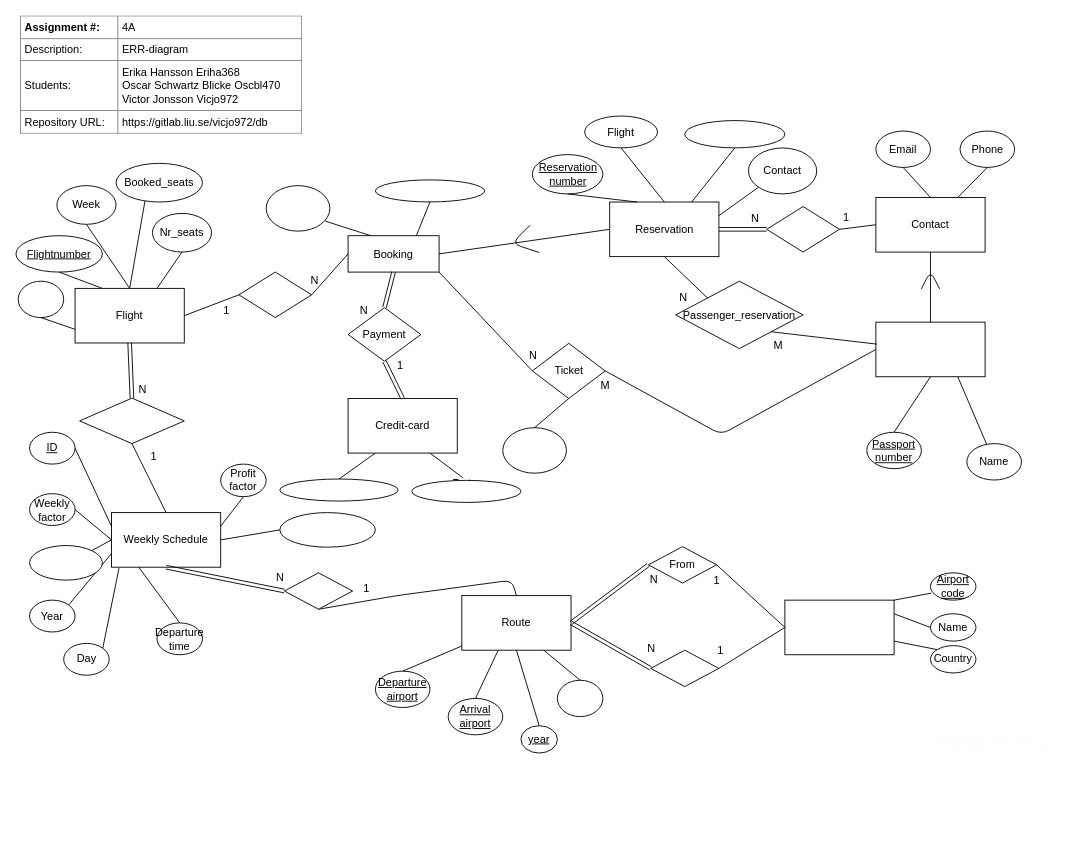
Image size: 1083x851. Some labels were removed from this diagram. Each missing label, with the centre of its shape:
"Airport" belongs at (839,627).
"Arrival_airpiort" belongs at (65,562).
"Bookings" belongs at (275,294).
"Credit_card" belongs at (429,190).
"credit_card_name" belongs at (338,489).
"credit_card_number" belongs at (466,490).
"Depature_airport" belongs at (327,529).
"Group" belongs at (802,229).
"has" belongs at (318,590).
"nr_of_passengers" belongs at (734,134).
"Passenger" belongs at (930,349).
"Price" belongs at (297,208).
"Route price" belongs at (579,698).
"Ticket_nr" belongs at (534,450).
"To" belongs at (684,668).
"Weekly" belongs at (131,420).
"Weekly flight id" belongs at (40,299).
